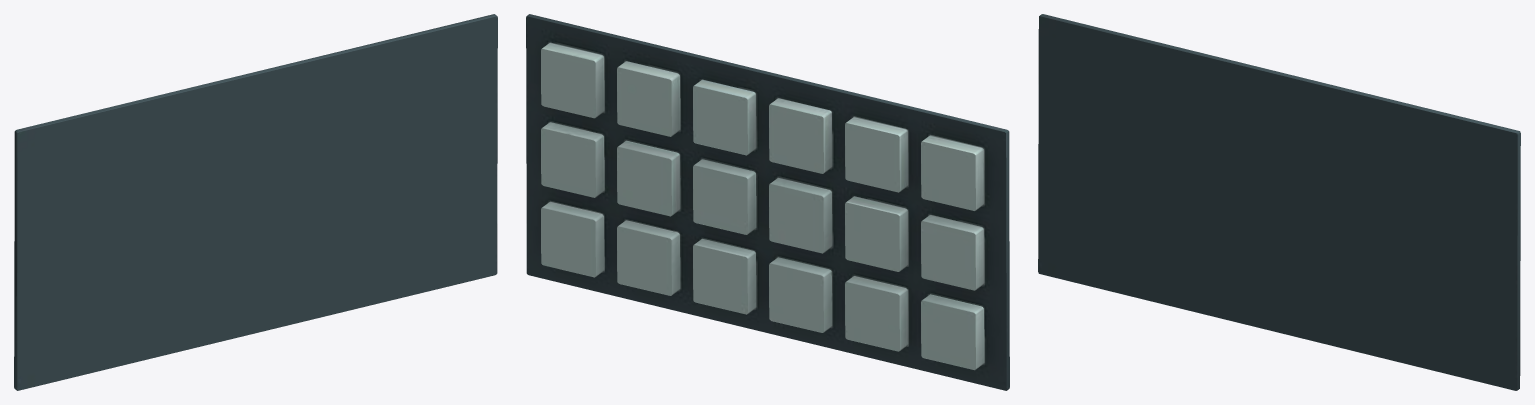
Rendered from LV_pool_tile_panel.glb.
3 renders of one model, left to right at view 1: azimuth 30°, elevation 25°; view 2: azimuth 150°, elevation 25°; view 3: azimuth 330°, elevation 25°, orthographic.
Visible parts, largest first — view 1: LV_pool_tile_panel; view 2: LV_pool_tile_panel; view 3: LV_pool_tile_panel.
Boxes of the visible parts, bbox=[...] form: LV_pool_tile_panel: bbox=[14, 14, 497, 390]; LV_pool_tile_panel: bbox=[526, 14, 1009, 390]; LV_pool_tile_panel: bbox=[1038, 14, 1520, 390].
Bounding box in the file's own units: 1.9 × 0.98 × 0.075.
1 material, 1 textured.
